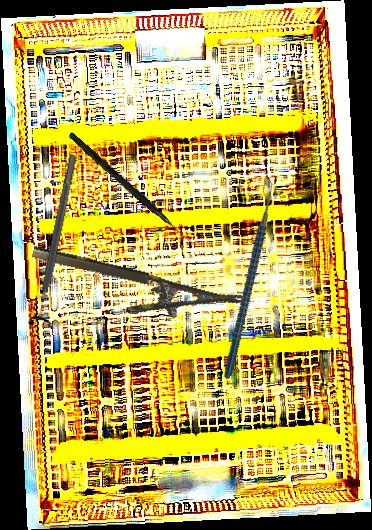Chopper: (159, 167, 335, 380)
Fixation Ring: (26, 152, 87, 330)
Hook Surgical: (66, 131, 197, 247)
Needle Holder: (24, 243, 245, 339)
